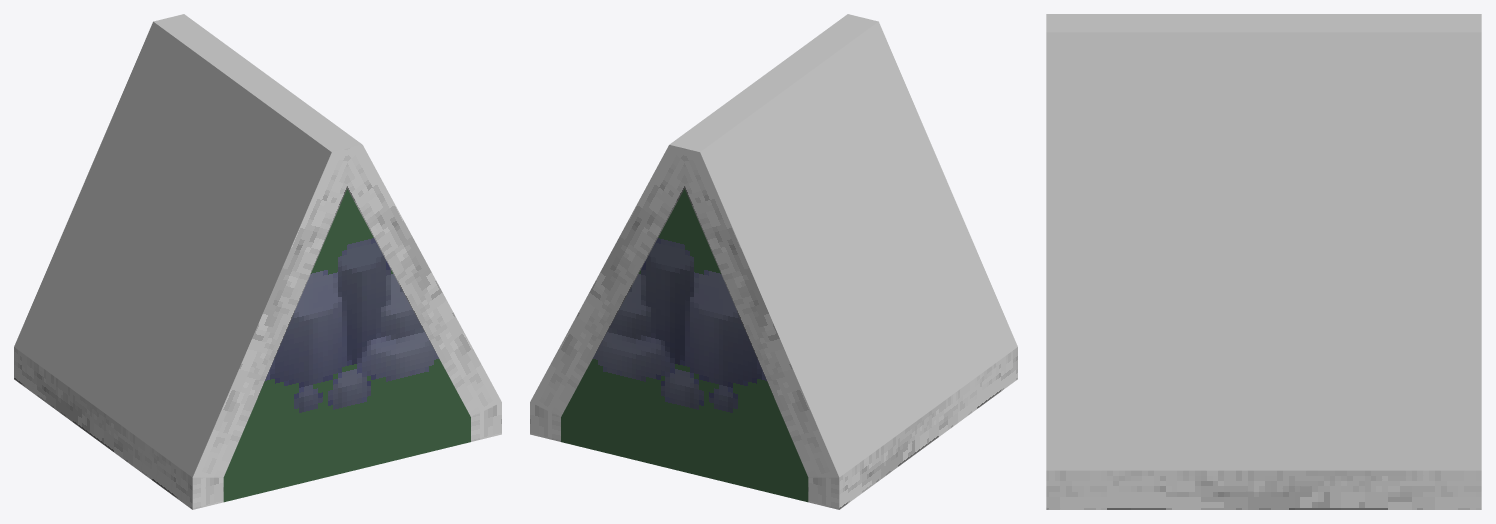
Rendered from roof.dae.
The picture shows the model from 3 angles, left to right: view 1: azimuth 30°, elevation 25°; view 2: azimuth 150°, elevation 25°; view 3: azimuth 270°, elevation 25°; orthographic projection. The views are drawn at different scales.
Parts seen in each view (by area): view 1: roof; view 2: roof; view 3: roof.
Boxes of the visible parts, bbox=[...] form: roof: bbox=[14, 14, 501, 509]; roof: bbox=[530, 14, 1017, 509]; roof: bbox=[1046, 14, 1481, 509].
Size of the model in its own units: 1 by 1 by 1.
